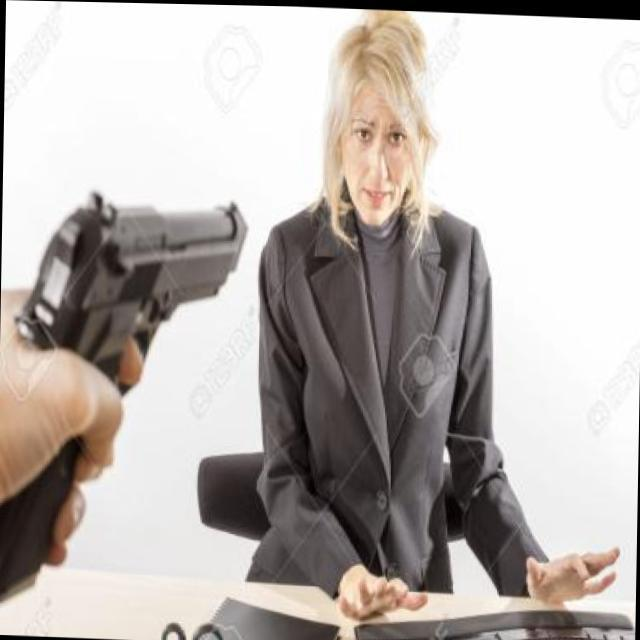weapon: (0, 180, 268, 625)
